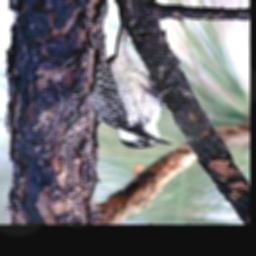Woodpecker: (92, 24, 176, 150)
